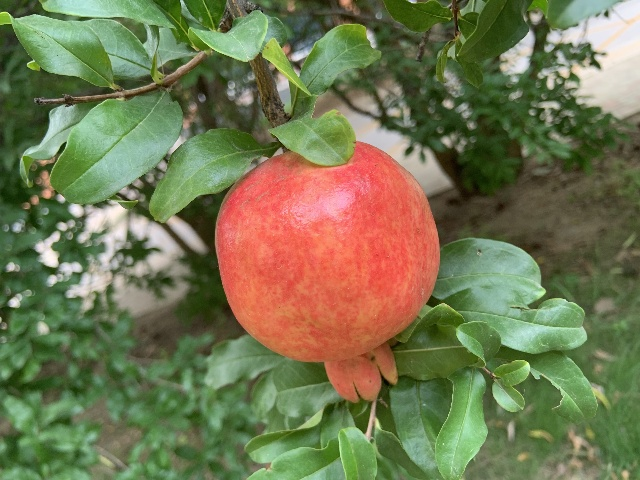ripe: (216, 141, 438, 405)
